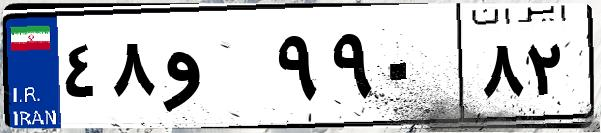0: (385, 28, 445, 110)
2: (525, 38, 570, 115)
4: (57, 26, 110, 100)
8: (475, 38, 525, 113), (110, 28, 158, 98)
9: (270, 28, 330, 110), (330, 28, 385, 110)
و: (158, 20, 270, 120)
